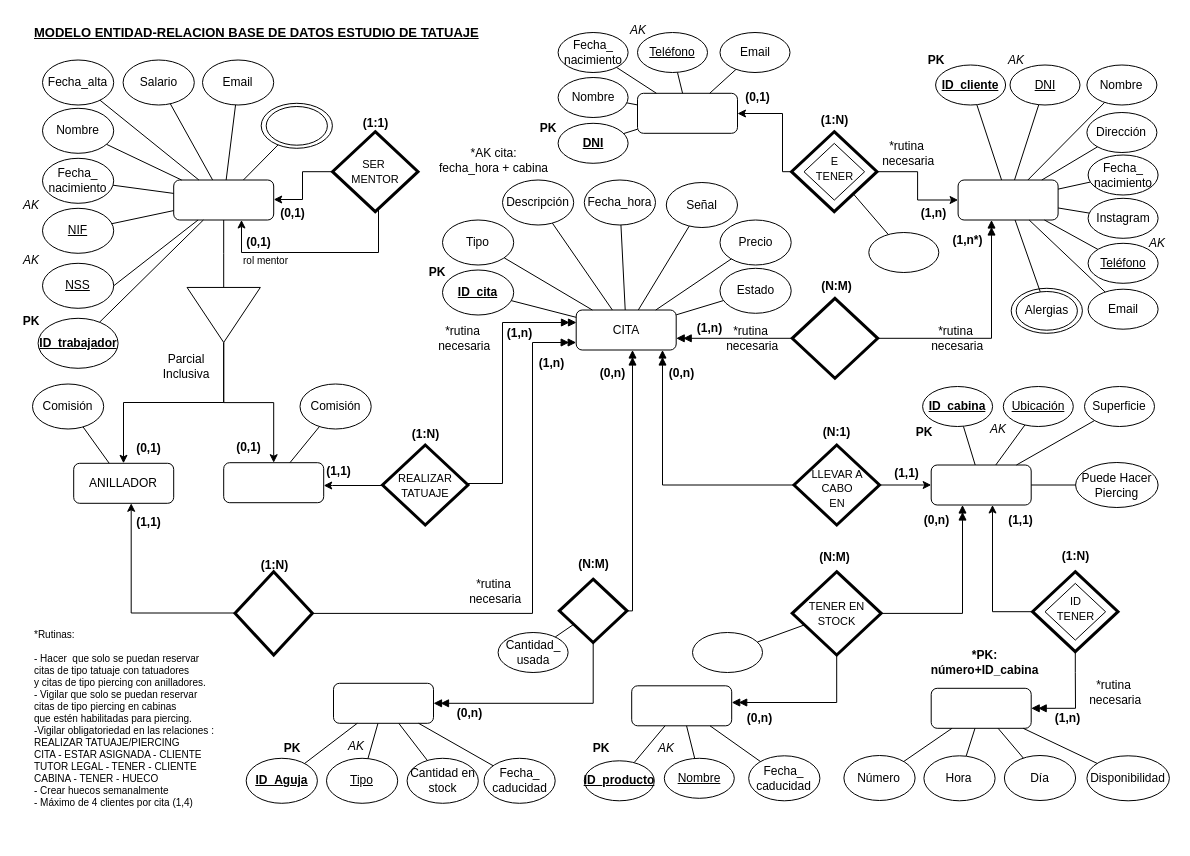
Image size: 1190x856. Some labels were removed from this diagram. The centre of each missing label's shape, as x and y in pixels:
AGUJA: pixel 383 702
CABINA: pixel 980 484
Cantidad_ disponible: pixel 727 652
CLIENTE: pixel 1007 199
ES UN: pixel 223 314
ESTAR ASIGNADA: pixel 834 337
HUECO: pixel 980 707
Parentesco: pixel 903 252
PRODUCTO: pixel 681 705
REALIZAR PIERCING: pixel 273 613
TATUADOR: pixel 273 482
Teléfonos: pixel 296 125
TRABAJADOR: pixel 223 199
TUTOR LEGAL: pixel 687 112
USAR: pixel 592 610
